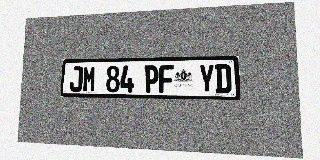4: (120, 65, 134, 92)
8: (106, 66, 120, 92)
D: (215, 64, 232, 93)
F: (159, 65, 174, 93)
J: (69, 66, 83, 92)
M: (82, 66, 96, 92)
P: (144, 65, 159, 93)
Y: (199, 64, 215, 93)
